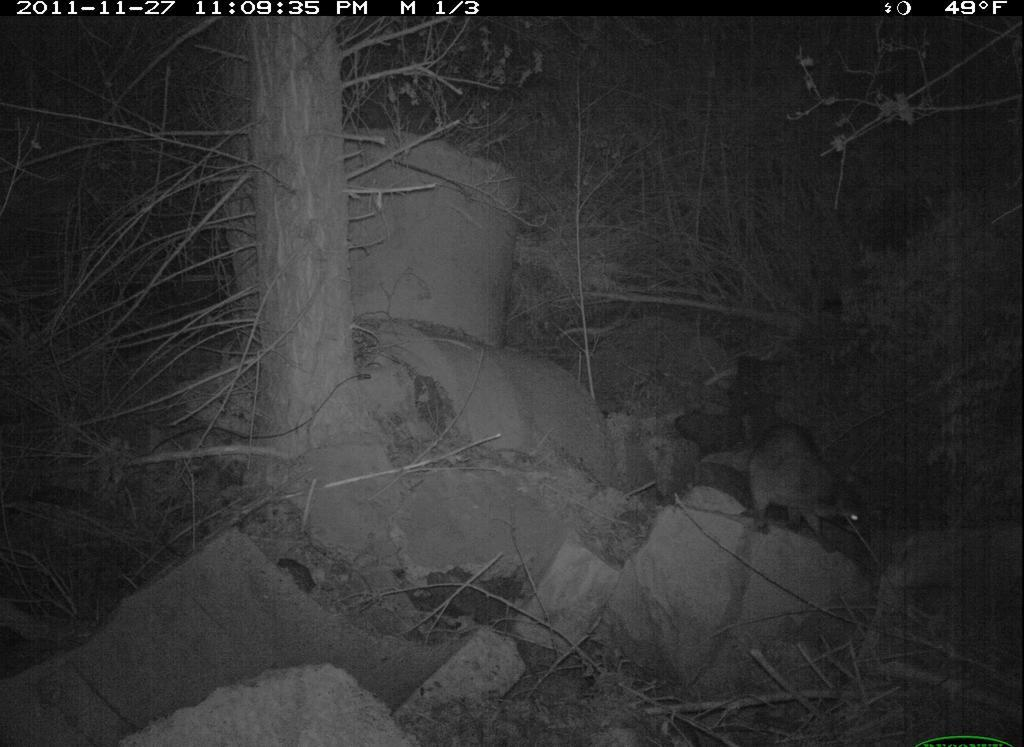raccoon: (694, 419, 873, 550)
